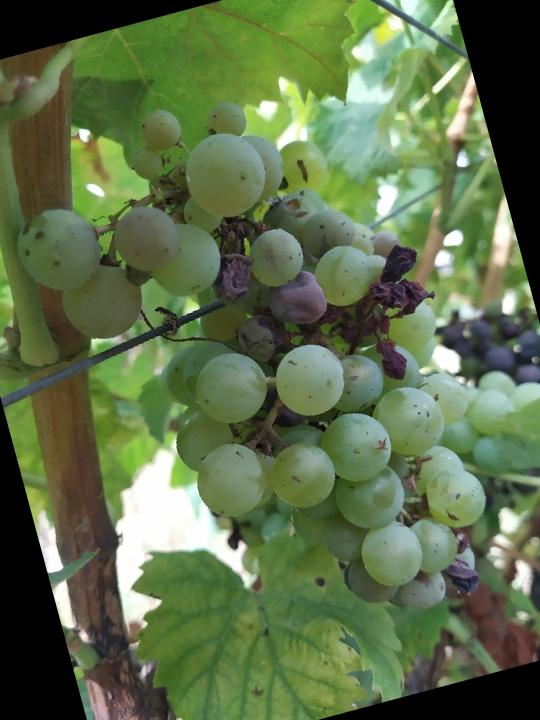grape: (0, 48, 519, 692)
